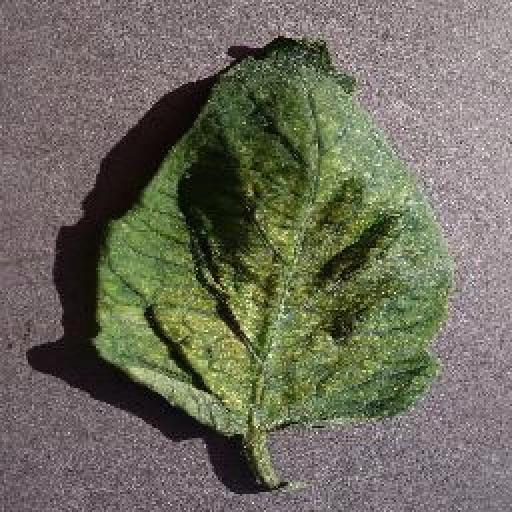disease_tomato: (90, 34, 450, 440)
